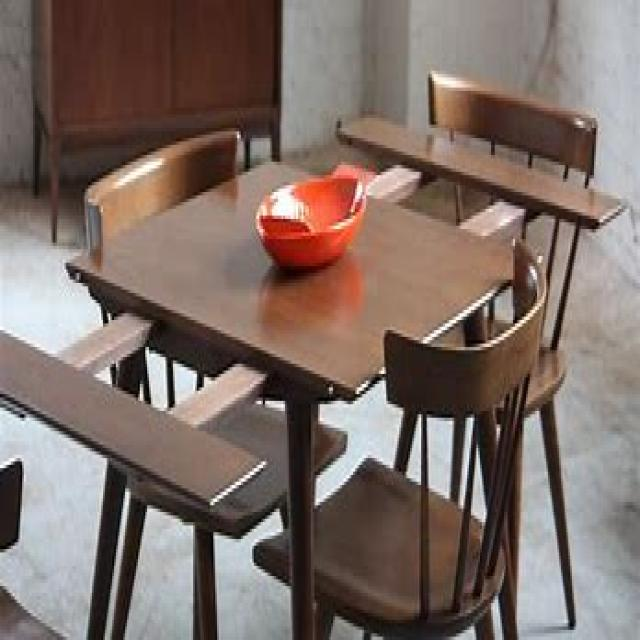chair: (250, 236, 546, 636)
table: (65, 152, 522, 636)
